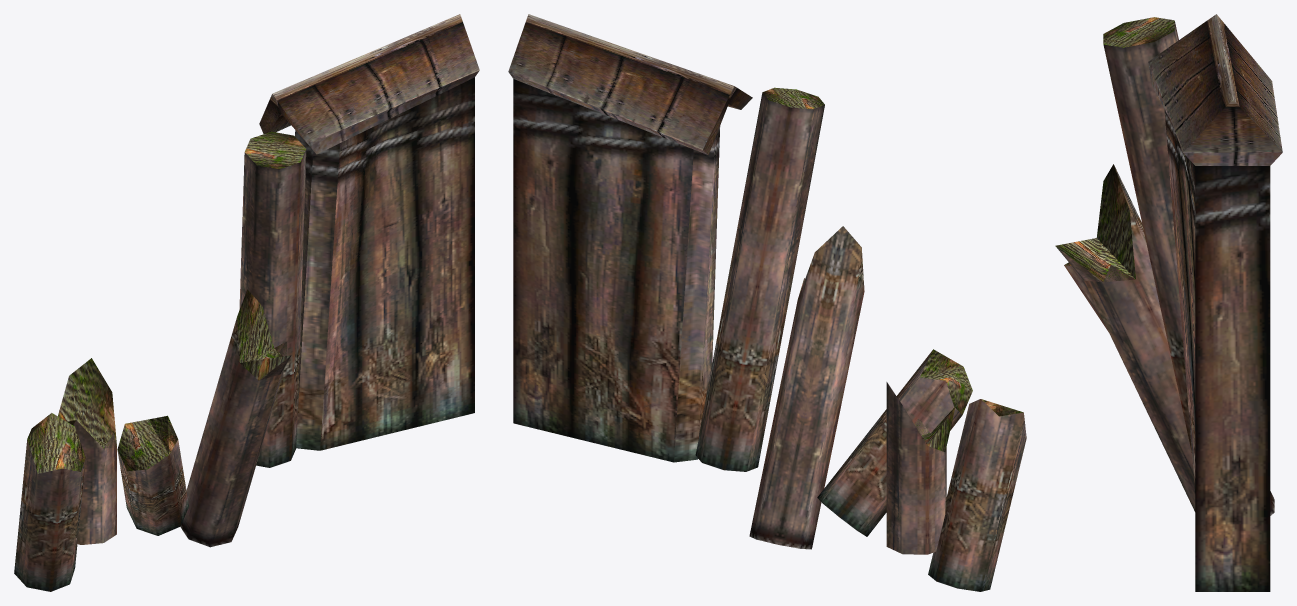
File: S_RFWal4.glb
3 renders of one model, left to right at view 1: azimuth 30°, elevation 25°; view 2: azimuth 150°, elevation 25°; view 3: azimuth 270°, elevation 25°, orthographic. The views are drawn at different scales.
Parts seen in each view (by area): view 1: S_RFWal4-col; view 2: S_RFWal4-col; view 3: S_RFWal4-col.
Part boxes in pixels (bbox=[...]): S_RFWal4-col: bbox=[14, 14, 479, 591]; S_RFWal4-col: bbox=[508, 14, 1026, 591]; S_RFWal4-col: bbox=[1055, 14, 1282, 591].
Size of the model in its own units: 4.57 by 4.41 by 1.55.
Materials: 4 (4 with a texture image).
